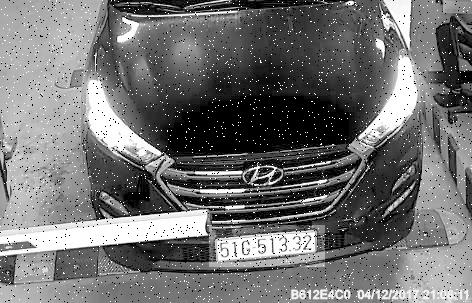License-plate: (210, 226, 326, 268)
